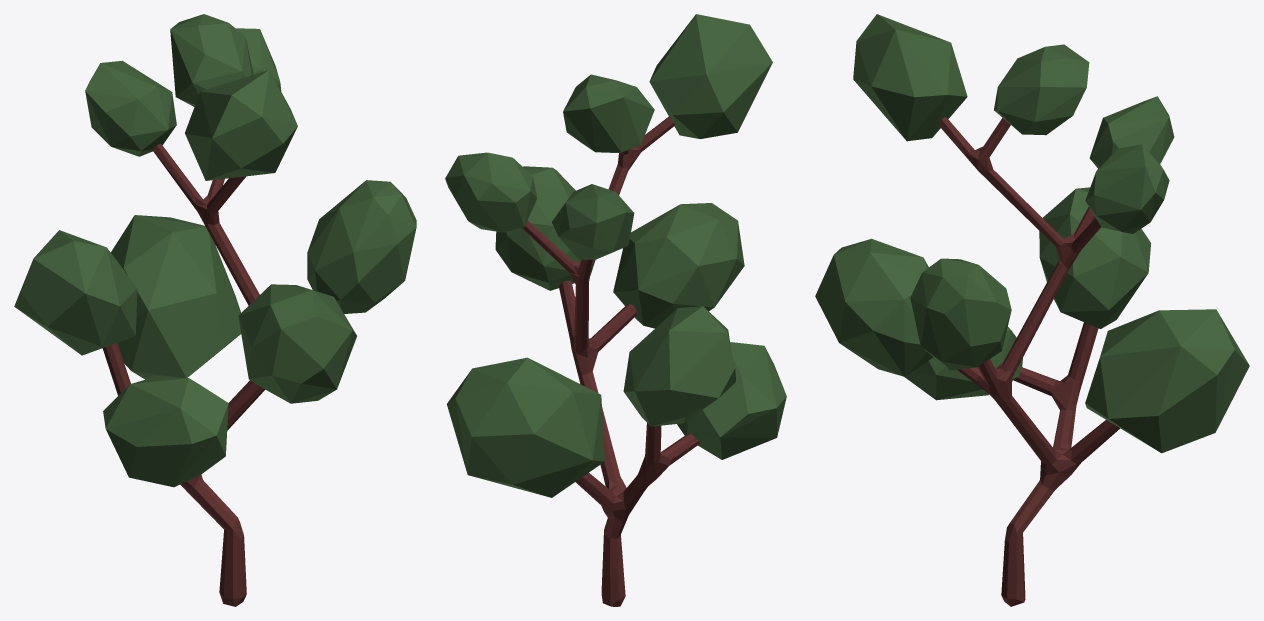
Rendered from Treepoly2.fbx.
The picture shows the model from 3 angles, left to right: view 1: azimuth 30°, elevation 25°; view 2: azimuth 150°, elevation 25°; view 3: azimuth 270°, elevation 25°; orthographic projection. The views are drawn at different scales.
Parts seen in each view (by area): view 1: Leaves.002, Trunk.002; view 2: Leaves.002, Trunk.002; view 3: Leaves.002, Trunk.002.
Part boxes in pixels (x1,y1,x2,y2): Leaves.002: (14, 14, 416, 487); Trunk.002: (102, 143, 265, 606); Leaves.002: (445, 14, 786, 497); Trunk.002: (522, 116, 700, 606); Leaves.002: (815, 14, 1249, 453); Trunk.002: (938, 117, 1119, 606).
Size of the model in its own units: 422 by 745 by 520.
